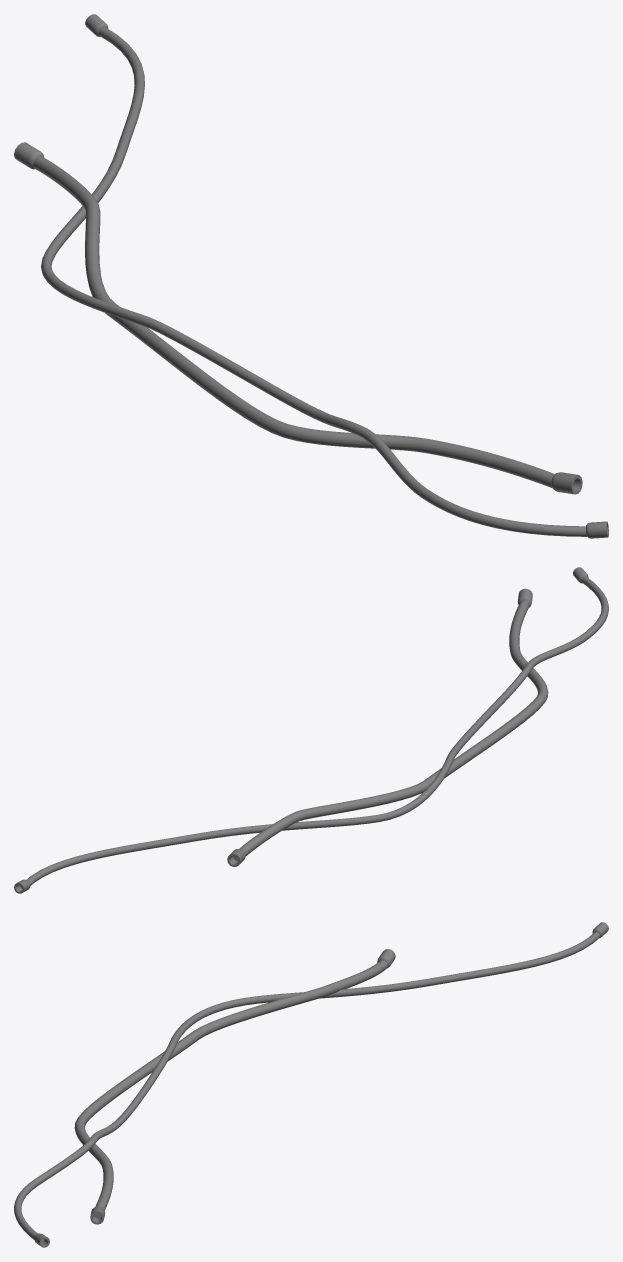
The model's file is q-scifi-mod-prop-cable-3.glb.
3 renders of one model, top to bottom at view 1: azimuth 30°, elevation 25°; view 2: azimuth 150°, elevation 25°; view 3: azimuth 330°, elevation 25°, orthographic. The views are drawn at different scales.
Visible parts, largest first — view 1: Prop_Cable_3; view 2: Prop_Cable_3; view 3: Prop_Cable_3.
Part boxes in pixels (box(x1,y1,x2,y2)): Prop_Cable_3: box(14, 14, 608, 538); Prop_Cable_3: box(14, 567, 608, 893); Prop_Cable_3: box(14, 922, 608, 1247).
Bounding box in the file's own units: 1.56 × 0.117 × 5.73.
2 materials, 2 textured.
